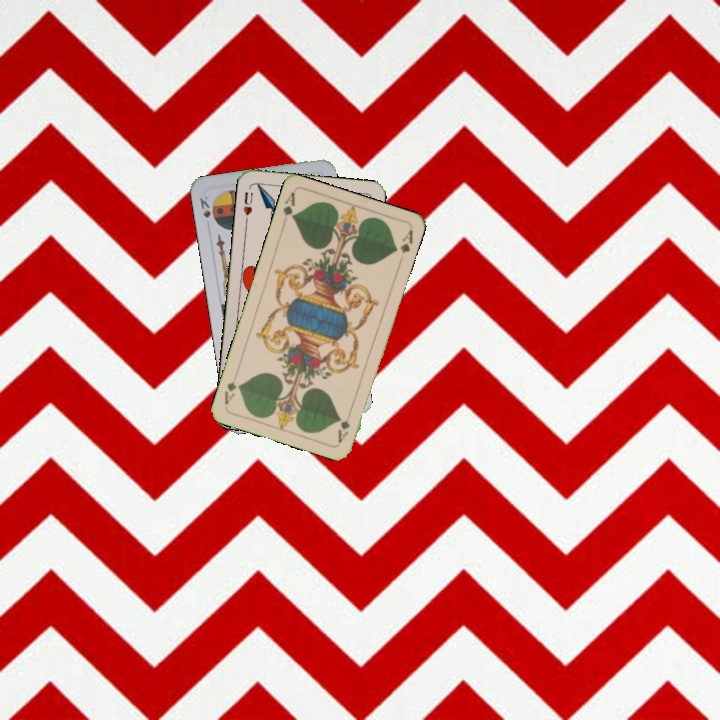GA: (334, 405, 354, 445), (279, 188, 298, 222)
HU: (239, 188, 256, 225)
SK: (196, 192, 213, 220)
